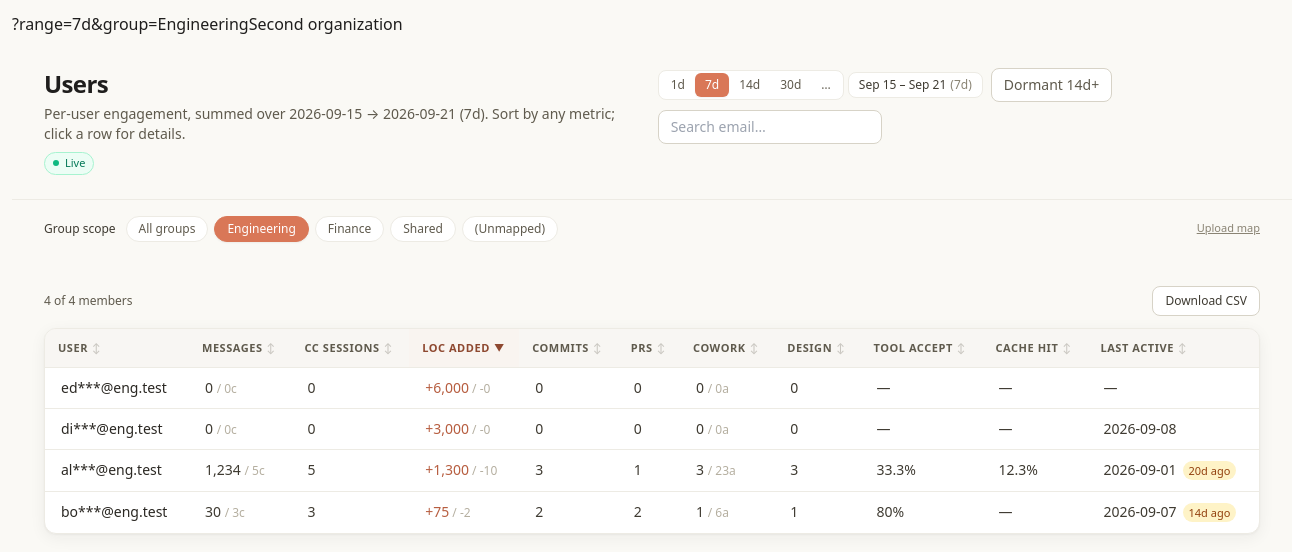
Scenario: Users search, counts and empty states › clears search, returns focus to it and preserves the dormant filter and sort
Click the button "Dormant 14d+" at (1052, 85), box top-left (991, 68), bottom-right (1112, 102)
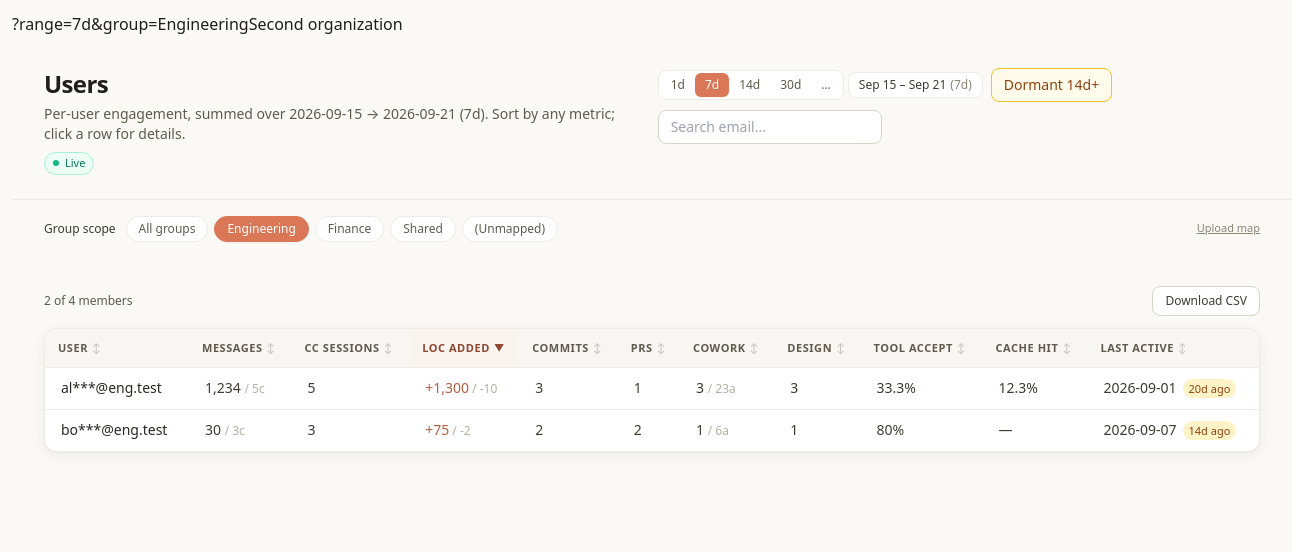
Click the button "LOC Added ▼" at (464, 348), box top-left (410, 330), bottom-right (518, 366)
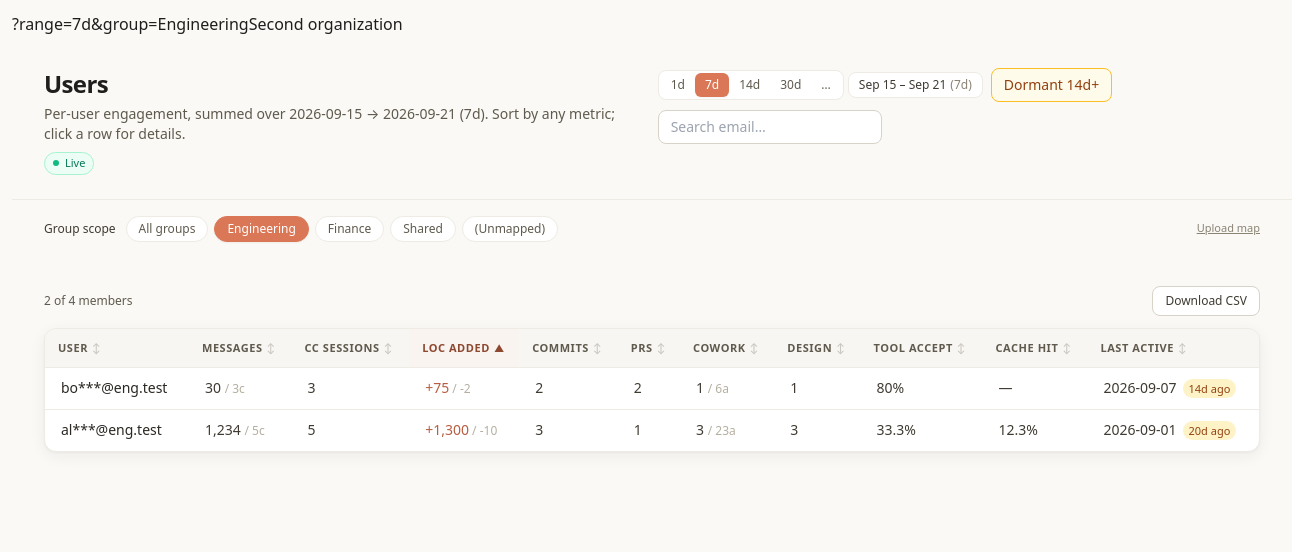
Type "alice" into the search field with placeholder "Search email…" at (770, 127), box top-left (658, 110), bottom-right (882, 144)
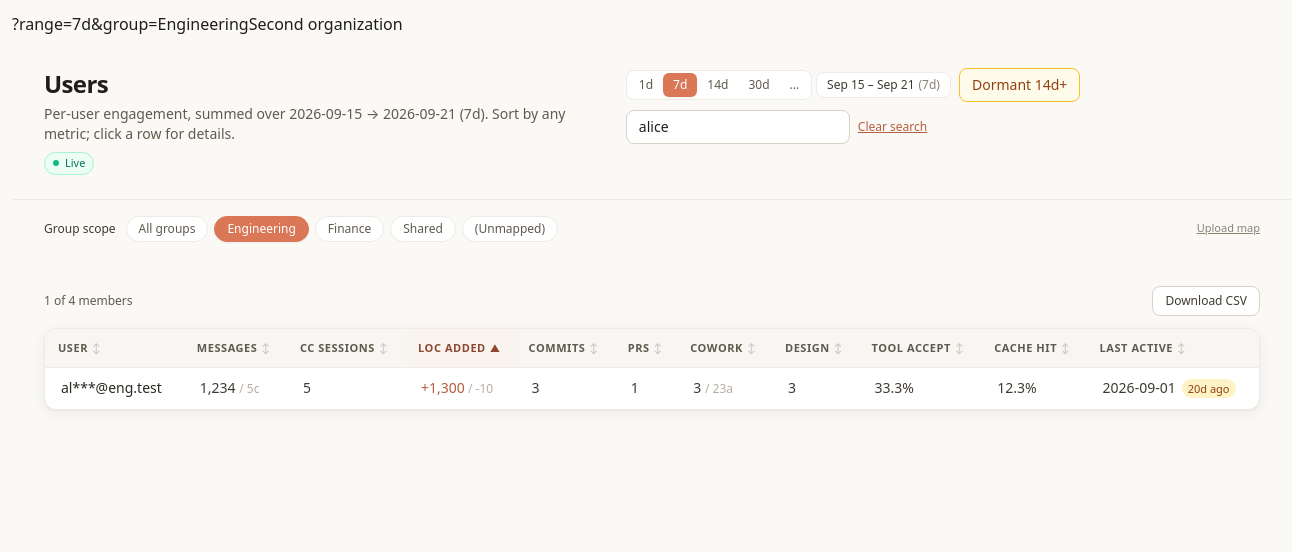
Click the button "Clear search" at (892, 127), box top-left (858, 119), bottom-right (927, 135)
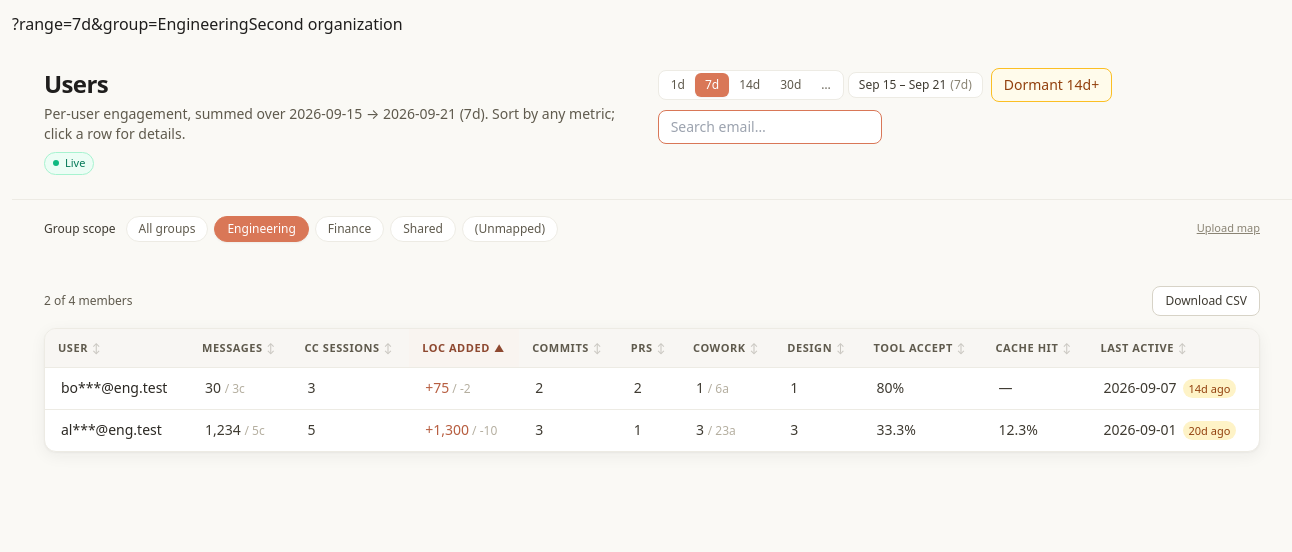
expect the button "Engineering" is shown: met, box top-left (214, 216), bottom-right (309, 242)
expect the search field with placeholder "Search email…" is empty: met, box top-left (658, 110), bottom-right (882, 144)
